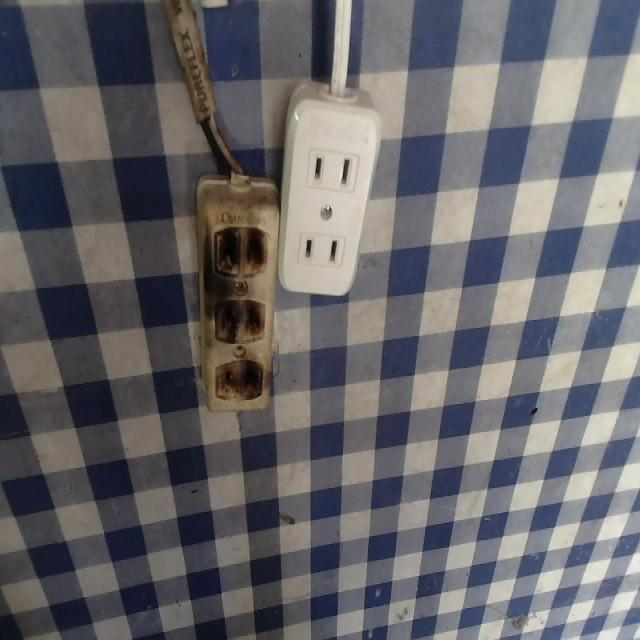-: (213, 218, 271, 278), (212, 290, 270, 350), (209, 354, 265, 409)
